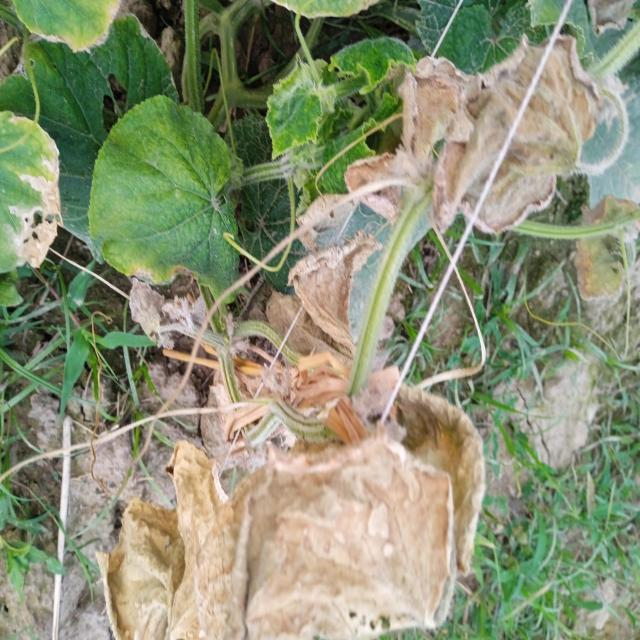cucumber_bacterial: (85, 391, 494, 640), (345, 34, 640, 238), (0, 22, 169, 236), (87, 94, 241, 295), (274, 206, 424, 360), (255, 41, 414, 181), (413, 0, 638, 72), (0, 94, 58, 302), (0, 0, 155, 52), (262, 0, 378, 23)
